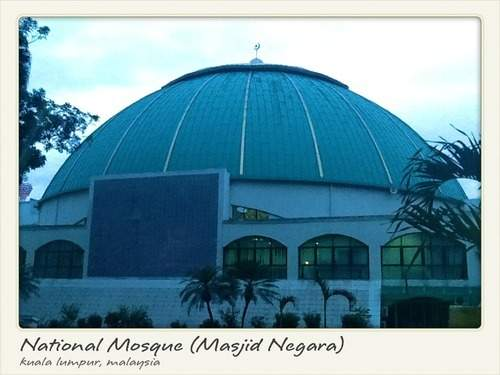Mosque: (28, 40, 464, 280)
